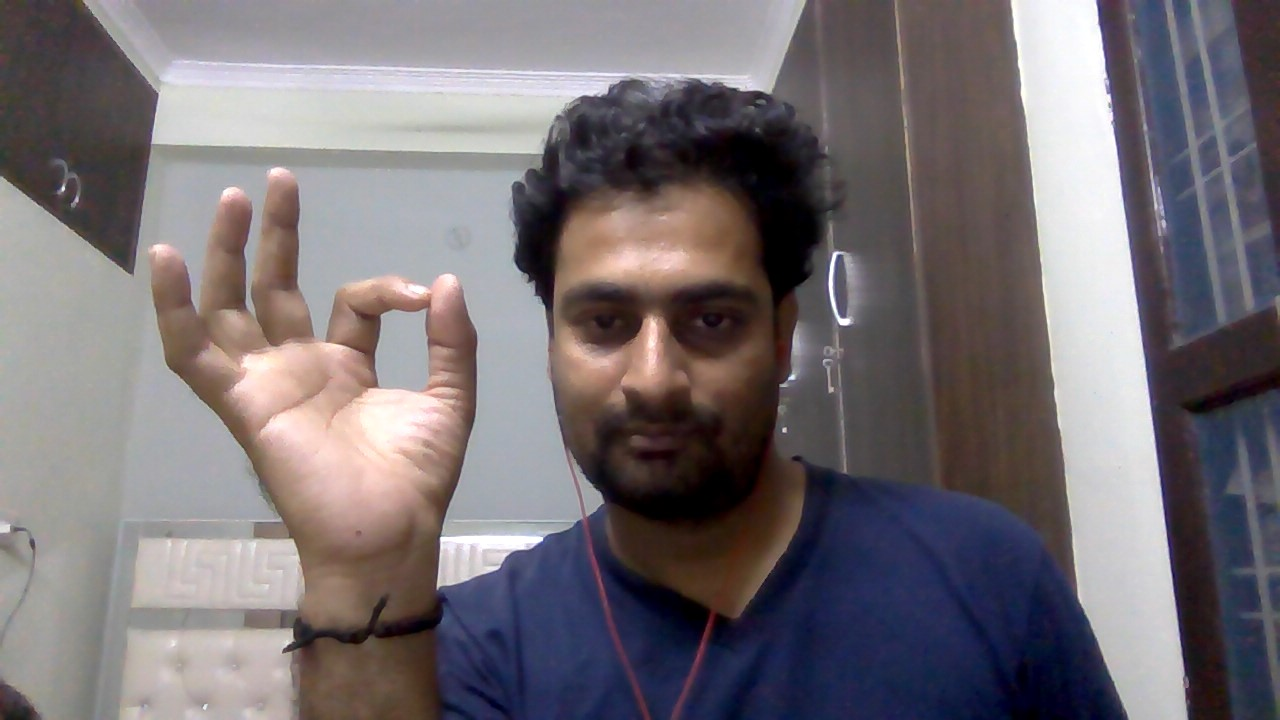Copy: (136, 159, 490, 556)
